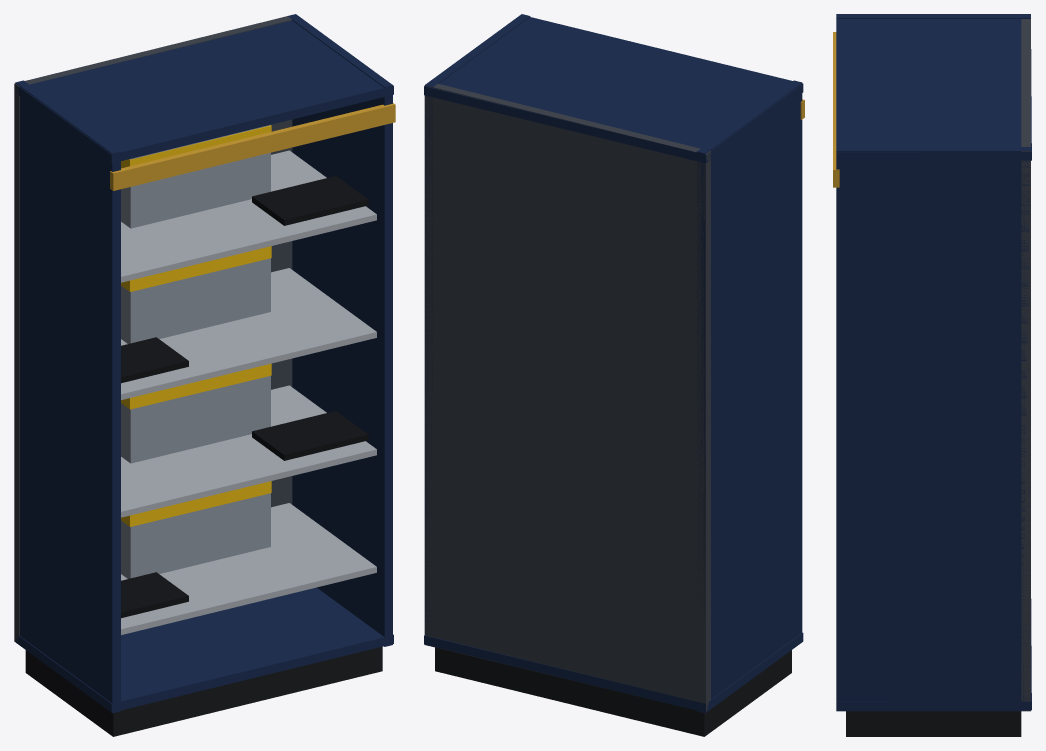
File: weaponrack_armour_plate_locker.glb
3 views of the same model, side by side, from view 1: azimuth 30°, elevation 25°; view 2: azimuth 150°, elevation 25°; view 3: azimuth 270°, elevation 25° (orthographic).
Parts seen in each view (by area): view 1: weaponrack_armour_plate_locker; view 2: weaponrack_armour_plate_locker; view 3: weaponrack_armour_plate_locker.
Boxes of the visible parts, box(x1,y1,x2,y2) form: weaponrack_armour_plate_locker: box(14, 14, 395, 736); weaponrack_armour_plate_locker: box(424, 14, 804, 736); weaponrack_armour_plate_locker: box(833, 14, 1031, 736).
Size of the model in its own units: 1.01 by 2 by 0.613.
